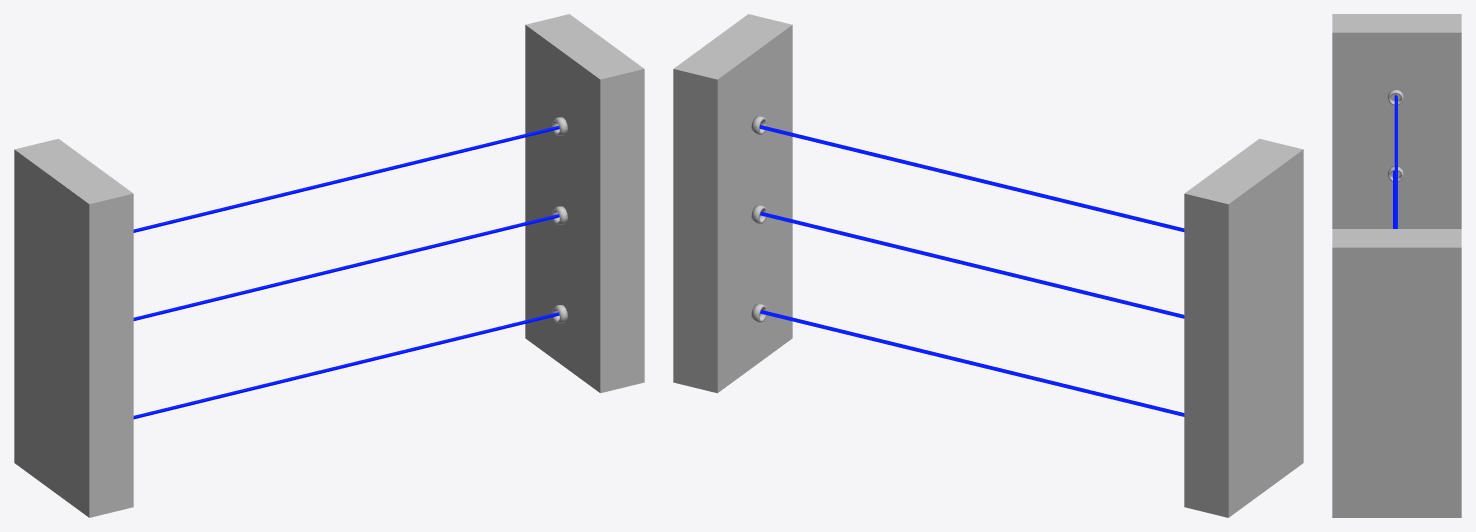
Rendered from Laser Grid.fbx.
The picture shows the model from 3 angles, left to right: view 1: azimuth 30°, elevation 25°; view 2: azimuth 150°, elevation 25°; view 3: azimuth 270°, elevation 25°; orthographic projection. The views are drawn at different scales.
Visible parts, largest first — view 1: wall_reference_2, wall_reference, Cube_4, Cube_5, Cube_3; view 2: wall_reference_2, wall_reference, Cube_4, Cube_3, Cube_5; view 3: wall_reference, wall_reference_2, Cube_4.
Boxes of the visible parts, x1,y1,x2,y2 form: wall_reference_2: (14, 138, 133, 517); wall_reference: (525, 14, 644, 393); Cube_4: (133, 125, 559, 232); Cube_5: (133, 312, 559, 419); Cube_3: (133, 214, 559, 320); wall_reference_2: (1184, 138, 1303, 517); wall_reference: (673, 14, 792, 393); Cube_4: (759, 125, 1184, 231); Cube_3: (760, 211, 1184, 318); Cube_5: (760, 310, 1184, 416); wall_reference: (1332, 229, 1461, 517); wall_reference_2: (1332, 14, 1461, 228); Cube_4: (1394, 95, 1397, 228).
Size of the model in its own units: 855 by 461 by 200.
